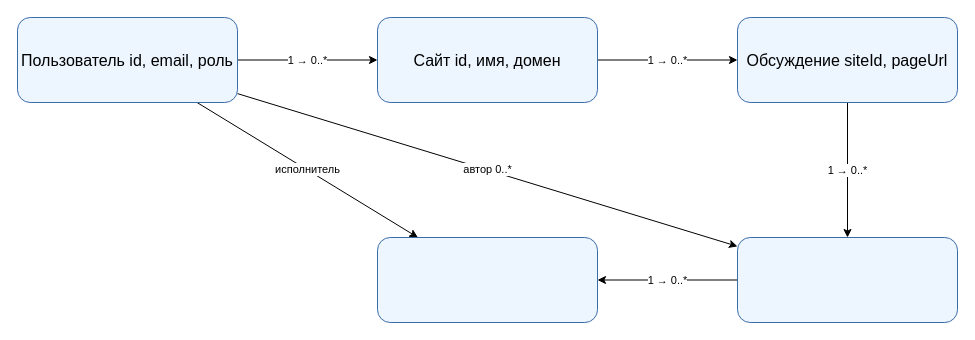
The diagram is 975 pixels wide and 340 high, and some of its shapes have lost their labels. Here are the shapes that lost their labels. From the top down, the centre of each, then its label:
At [487,279]: "Действие модерации id, действие, время".
At [847,279]: "Комментарий id, текст, статус".
